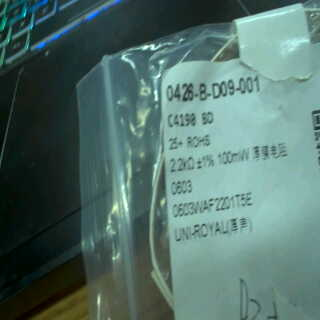2.2kR: (168, 154, 197, 176)
